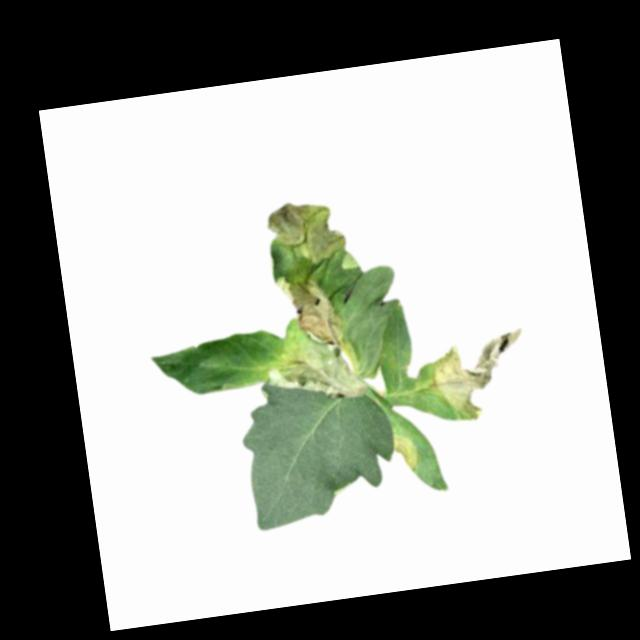Late_blight: (421, 324, 534, 427), (257, 311, 369, 409), (263, 193, 357, 277), (273, 271, 334, 321), (391, 431, 421, 474)
